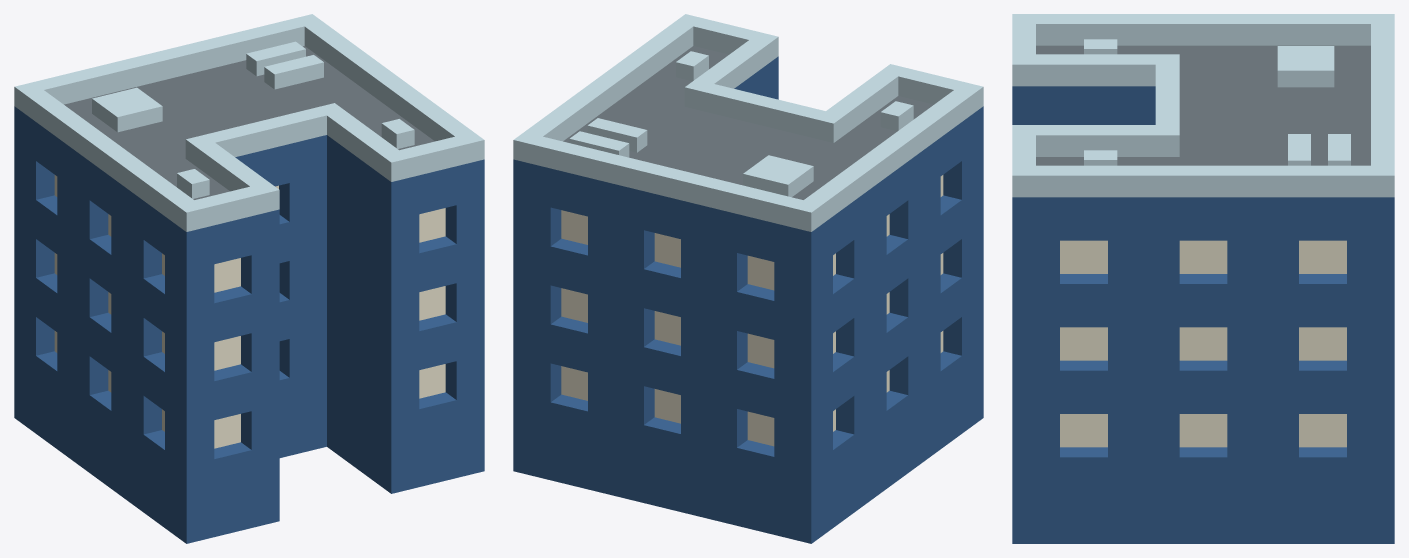
File: Building_5_Extra (Blue).obj
3 views of the same model, side by side, from view 1: azimuth 30°, elevation 25°; view 2: azimuth 150°, elevation 25°; view 3: azimuth 270°, elevation 25° (orthographic). The views are drawn at different scales.
Parts seen in each view (by area): view 1: Building_5_Extra_(Blue); view 2: Building_5_Extra_(Blue); view 3: Building_5_Extra_(Blue).
Boxes of the visible parts, box(x1,y1,x2,y2) form: Building_5_Extra_(Blue): box(14, 14, 484, 543); Building_5_Extra_(Blue): box(513, 14, 983, 543); Building_5_Extra_(Blue): box(1012, 14, 1394, 543).
Size of the model in its own units: 1.6 by 1.7 by 1.6.
